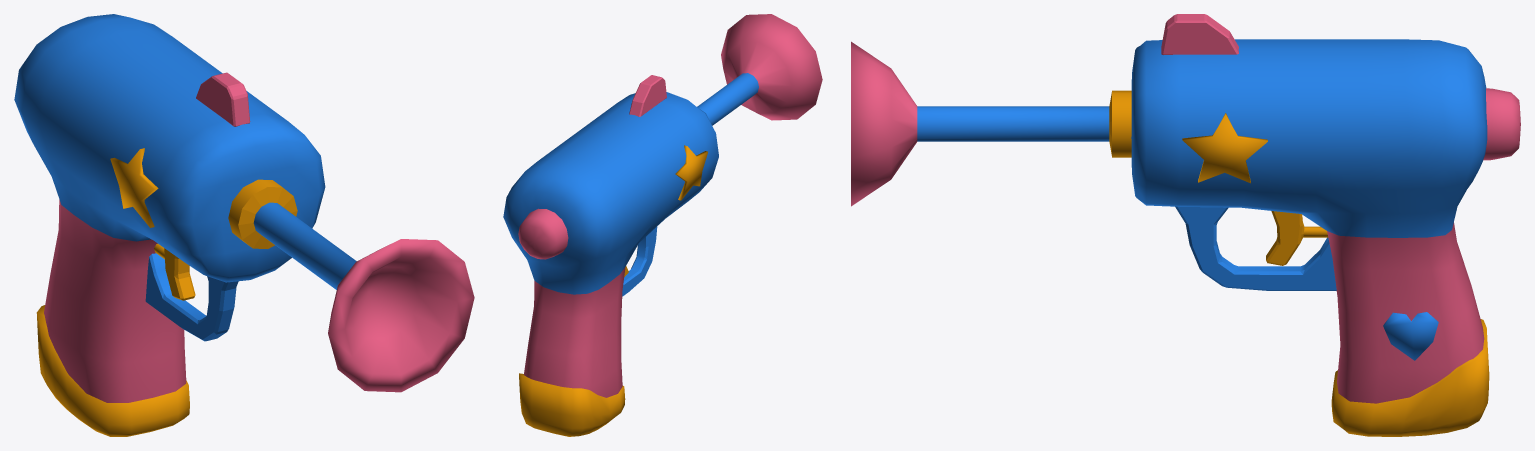
The model's file is pistol_dart1.glb.
3 renders of one model, left to right at view 1: azimuth 30°, elevation 25°; view 2: azimuth 150°, elevation 25°; view 3: azimuth 270°, elevation 25°, orthographic. The views are drawn at different scales.
Visible parts, largest first — view 1: Cube.003; view 2: Cube.003; view 3: Cube.003.
Part boxes in pixels (x1=…): Cube.003: x1=14, y1=14, x2=474, y2=436; Cube.003: x1=503, y1=14, x2=822, y2=436; Cube.003: x1=851, y1=14, x2=1520, y2=436.
Bounding box in the file's own units: 1.03 × 2.51 × 3.77.
